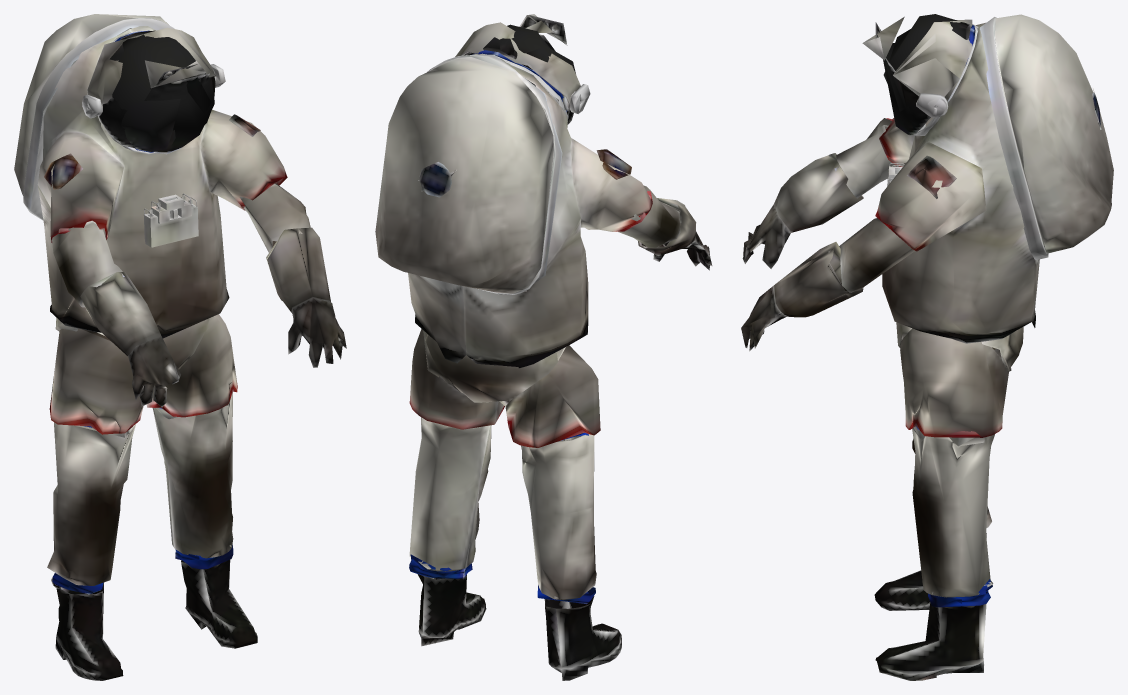
File: z2-spacesuit.glb
3 views of the same model, side by side, from view 1: azimuth 30°, elevation 25°; view 2: azimuth 150°, elevation 25°; view 3: azimuth 270°, elevation 25° (orthographic).
Parts seen in each view (by area): view 1: Z2; view 2: Z2; view 3: Z2.
Boxes of the visible parts, left/top/right/bottom form: Z2: left=14, top=14, right=346, bottom=680; Z2: left=375, top=14, right=712, bottom=680; Z2: left=741, top=14, right=1113, bottom=680.
Bounding box in the file's own units: 0.7812 × 1.93 × 1.04.
Materials: 1 (1 with a texture image).
